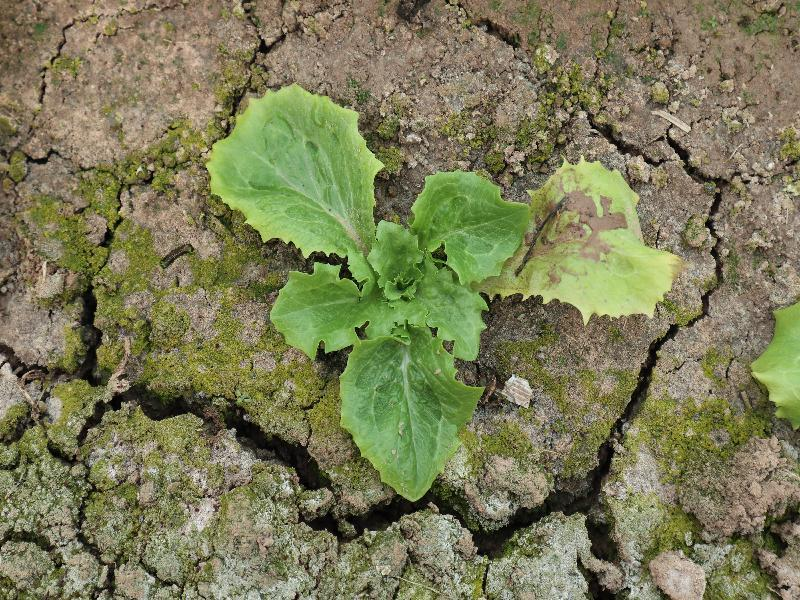lettuce: (203, 81, 678, 500)
